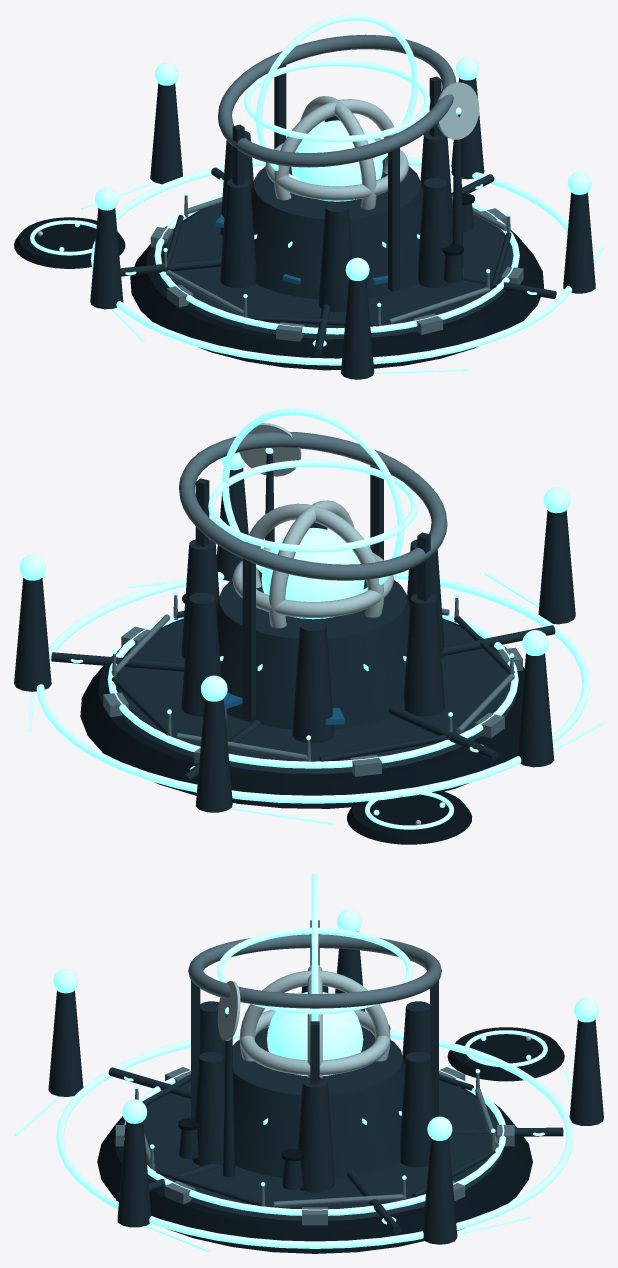
Rendered from fusionReactor-stage3.glb.
3 views of the same model, one above another, from view 1: azimuth 30°, elevation 25°; view 2: azimuth 150°, elevation 25°; view 3: azimuth 270°, elevation 25° (orthographic). The views are drawn at different scales.
Visible parts, largest first — view 1: containment-vault, upper-deck, armored-foundation, power-crown, district-grid-2, coolant-tower-3, landing-pad, coolant-tower-1, coolant-tower-2, power-crown-field-y, perimeter-light, fusion-core (+23 smaller); view 2: upper-deck, containment-vault, armored-foundation, power-crown, district-grid-2, landing-pad, coolant-tower-4, coolant-tower-3, perimeter-light, coolant-tower-5, power-crown-field-y, fusion-core (+27 smaller); view 3: containment-vault, upper-deck, armored-foundation, district-grid-2, power-crown, landing-pad, fusion-core, coolant-tower-0, coolant-tower-5, coolant-tower-1, containment-ring-y, energy-pylon-4 (+28 smaller).
Part boxes in pixels (left/top/right/bottom): containment-vault: left=251, top=158, right=423, bottom=299; upper-deck: left=157, top=203, right=518, bottom=339; armored-foundation: left=130, top=207, right=543, bottom=370; power-crown: left=218, top=34, right=455, bottom=167; district-grid-2: left=90, top=157, right=572, bottom=365; coolant-tower-3: left=220, top=179, right=256, bottom=288; landing-pad: left=14, top=217, right=125, bottom=268; coolant-tower-1: left=418, top=178, right=452, bottom=288; coolant-tower-2: left=318, top=202, right=352, bottom=312; power-crown-field-y: left=244, top=60, right=430, bottom=142; perimeter-light: left=154, top=194, right=519, bottom=334; fusion-core: left=291, top=120, right=382, bottom=201; upper-deck: left=109, top=619, right=515, bottom=773; containment-vault: left=216, top=570, right=409, bottom=729; armored-foundation: left=80, top=618, right=524, bottom=808; power-crown: left=179, top=431, right=447, bottom=580; district-grid-2: left=36, top=571, right=590, bottom=803; landing-pad: left=347, top=786, right=472, bottom=844; coolant-tower-4: left=292, top=619, right=333, bottom=743; coolant-tower-3: left=404, top=593, right=444, bottom=716; perimeter-light: left=107, top=610, right=518, bottom=768; coolant-tower-5: left=181, top=592, right=221, bottom=716; power-crown-field-y: left=208, top=459, right=417, bottom=552; fusion-core: left=261, top=527, right=364, bottom=619; containment-vault: left=232, top=1027, right=405, bottom=1179; upper-deck: left=143, top=1080, right=504, bottom=1220; armored-foundation: left=97, top=1087, right=532, bottom=1253; district-grid-2: left=56, top=1030, right=573, bottom=1248; power-crown: left=188, top=934, right=441, bottom=1008; landing-pad: left=447, top=1027, right=564, bottom=1081; fusion-core: left=267, top=992, right=363, bottom=1076; coolant-tower-0: left=297, top=1077, right=334, bottom=1192; coolant-tower-5: left=400, top=1052, right=435, bottom=1167; coolant-tower-1: left=192, top=1052, right=224, bottom=1166; containment-ring-y: left=239, top=1009, right=390, bottom=1075; energy-pylon-4: left=423, top=1138, right=457, bottom=1244.
Size of the model in its own units: 13.25 by 7.59 by 14.5.
